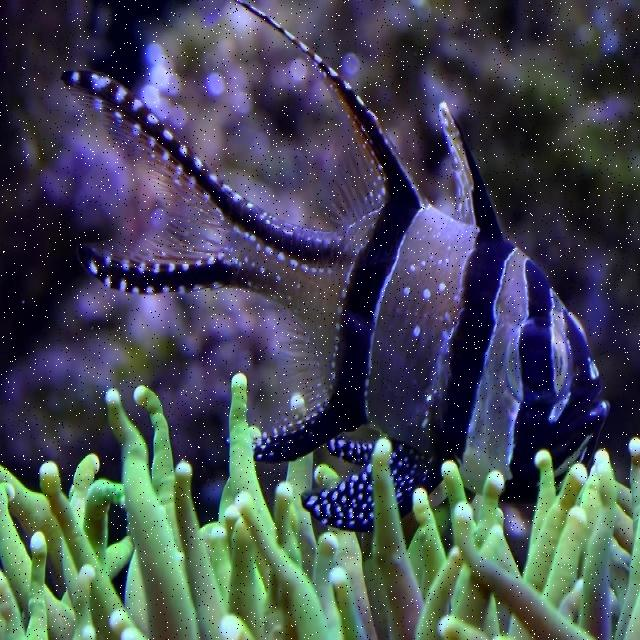fish: (61, 1, 610, 533)
reefs: (0, 372, 639, 639)
